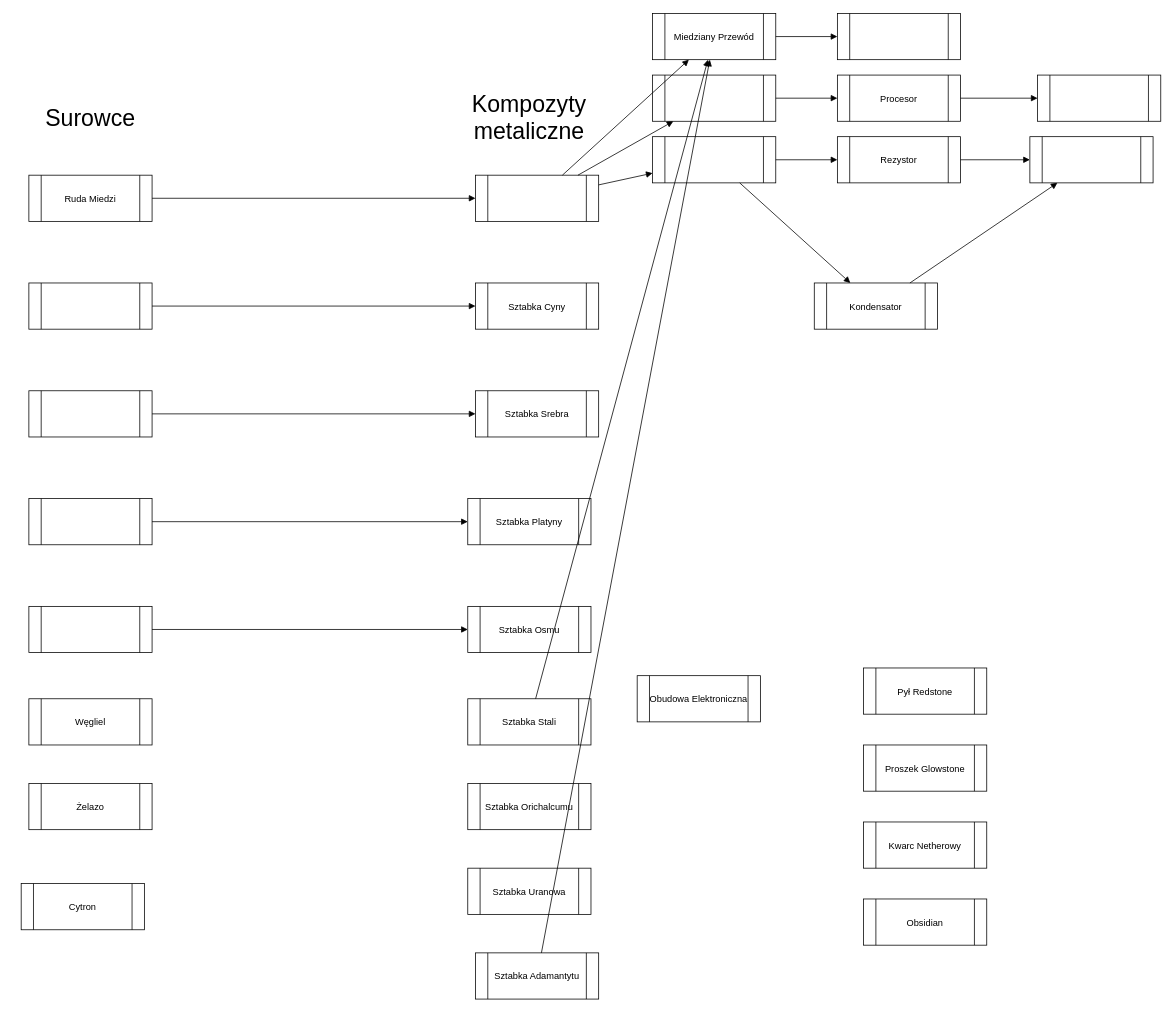
This 1174x1013 diagram has some shape labels left out. Each missing label, with the centre of its shape:
"Cewka Miedziana" belongs at [714,97].
"Mikrokontroler" belongs at [1091,159].
"Przekaźnik Energetyczny" belongs at [899,36].
"Płyta Główna" belongs at [1099,97].
"Płytka Drukowana (PCB)" belongs at [714,159].
"Ruda Cyny" belongs at [90,305].
"Ruda Osmu" belongs at [90,629].
"Ruda Platyny" belongs at [90,521].
"Ruda Srebra" belongs at [90,413].
"Sztabka Miedzi" belongs at [537,197].
